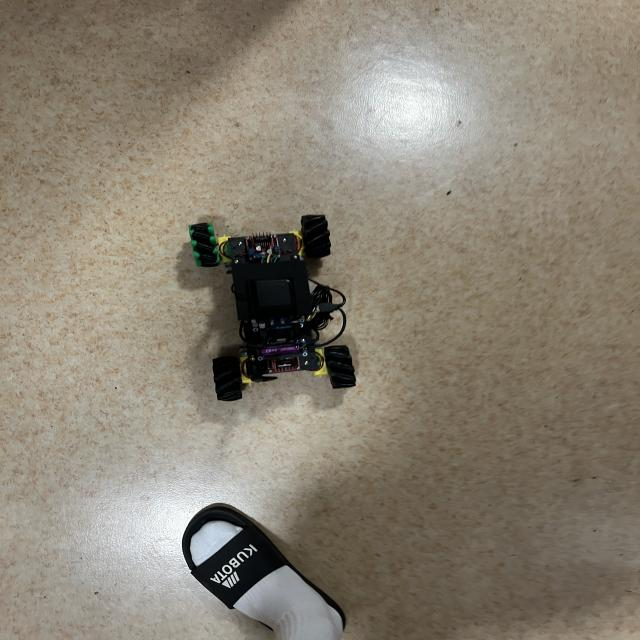robot: (189, 214, 356, 401)
